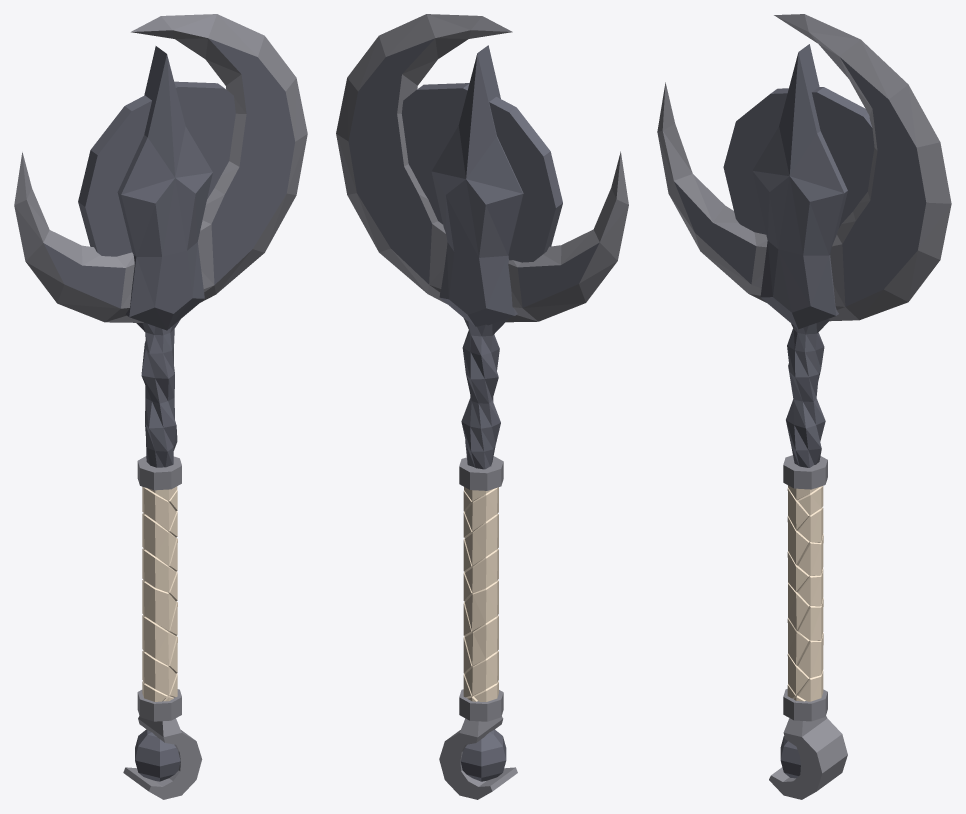
File: _hammer_21.fbx
3 views of the same model, side by side, from view 1: azimuth 30°, elevation 25°; view 2: azimuth 150°, elevation 25°; view 3: azimuth 330°, elevation 25° (orthographic).
Visible parts, largest first — view 1: hammer_21; view 2: hammer_21; view 3: hammer_21.
Part boxes in pixels (box(x1,y1,x2,y2)): hammer_21: box(14, 14, 307, 799); hammer_21: box(336, 14, 628, 799); hammer_21: box(657, 14, 951, 799).
Size of the model in its own units: 32.59 by 82.03 by 6.04.
